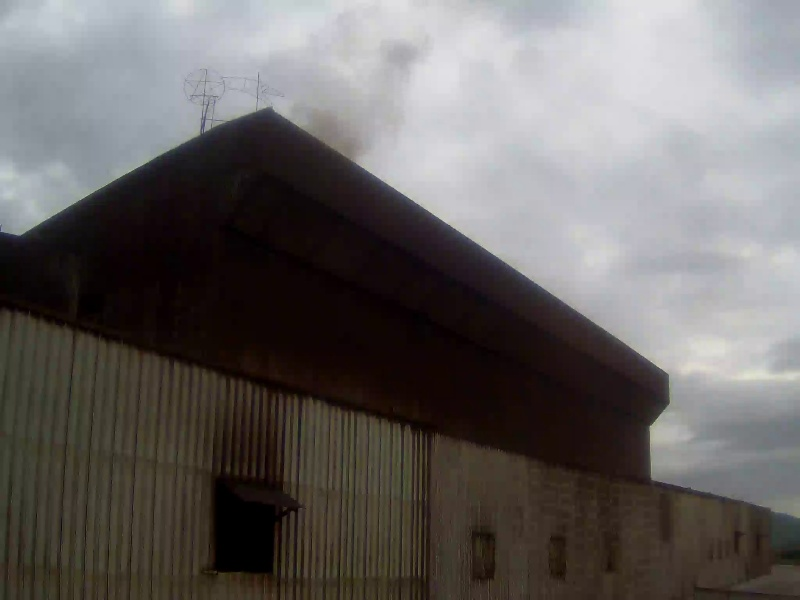bom: (17, 20, 274, 209), (652, 294, 793, 495)
ruim: (266, 52, 678, 409), (255, 14, 434, 181)
